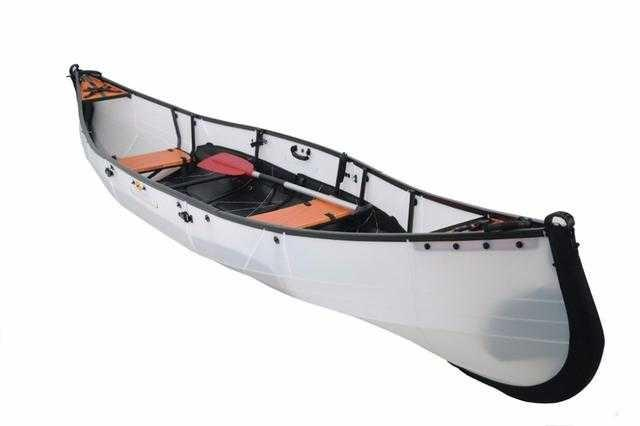kayak: (68, 70, 605, 399)
